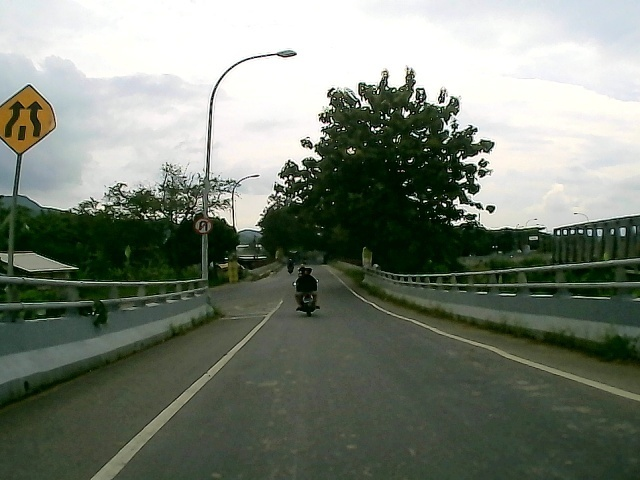Akhir bangunan pemisah satu arah: (1, 82, 60, 159)
Dilarang berbalik arah: (192, 217, 213, 237)
